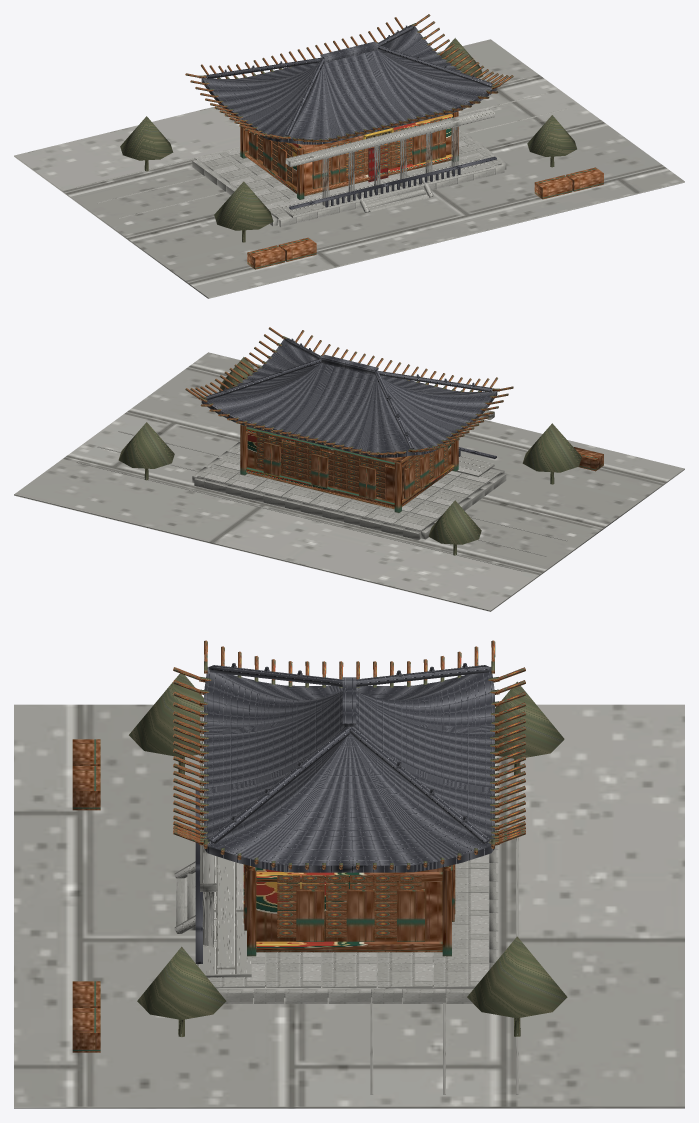
The picture shows the model from 3 angles, top to bottom: view 1: azimuth 30°, elevation 25°; view 2: azimuth 150°, elevation 25°; view 3: azimuth 270°, elevation 25°; orthographic projection. The views are drawn at different scales.
Parts seen in each view (by area): view 1: 11140_02_04519_004_06__garden_paving, 11140_02_04519_004_03__paljak_roof_giwa, 11140_02_04519_004_01__granite_plinth_terrace, 11140_02_04519_004_06__garden_trees_hedge, 11140_02_04519_004_02__brick_body_timber_frame, 11140_02_04519_004_03__roman_colonnade_6columns, 11140_02_04519_004_03__seokkarae_buyeon_eave, 11140_02_04519_004_05__window_wood_sash, 11140_02_04519_004_03__yongmaru_japsang_punggyeong, 11140_02_04519_004_03__terrace_iron_balustrade; view 2: 11140_02_04519_004_06__garden_paving, 11140_02_04519_004_03__paljak_roof_giwa, 11140_02_04519_004_01__granite_plinth_terrace, 11140_02_04519_004_02__brick_body_timber_frame, 11140_02_04519_004_06__garden_trees_hedge, 11140_02_04519_004_03__seokkarae_buyeon_eave, 11140_02_04519_004_05__window_wood_sash, 11140_02_04519_004_03__yongmaru_japsang_punggyeong; view 3: 11140_02_04519_004_06__garden_paving, 11140_02_04519_004_03__paljak_roof_giwa, 11140_02_04519_004_01__granite_plinth_terrace, 11140_02_04519_004_06__garden_trees_hedge, 11140_02_04519_004_02__brick_body_timber_frame, 11140_02_04519_004_03__seokkarae_buyeon_eave, 11140_02_04519_004_03__yongmaru_japsang_punggyeong, 11140_02_04519_004_05__window_wood_sash, 11140_02_04519_004_03__roman_colonnade_6columns, 11140_02_04519_004_03__terrace_iron_balustrade.
Boxes of the visible parts, x1,y1,x2,y2 form: 11140_02_04519_004_06__garden_paving: (14, 39, 684, 298); 11140_02_04519_004_03__paljak_roof_giwa: (201, 26, 497, 144); 11140_02_04519_004_01__granite_plinth_terrace: (192, 128, 506, 227); 11140_02_04519_004_06__garden_trees_hedge: (120, 38, 603, 269); 11140_02_04519_004_02__brick_body_timber_frame: (240, 111, 458, 199); 11140_02_04519_004_03__roman_colonnade_6columns: (285, 109, 494, 205); 11140_02_04519_004_03__seokkarae_buyeon_eave: (185, 14, 513, 142); 11140_02_04519_004_05__window_wood_sash: (248, 128, 445, 188); 11140_02_04519_004_03__yongmaru_japsang_punggyeong: (206, 25, 492, 136); 11140_02_04519_004_03__terrace_iron_balustrade: (289, 156, 496, 209); 11140_02_04519_004_06__garden_paving: (14, 352, 684, 611); 11140_02_04519_004_03__paljak_roof_giwa: (201, 339, 497, 457); 11140_02_04519_004_01__granite_plinth_terrace: (192, 441, 506, 540); 11140_02_04519_004_02__brick_body_timber_frame: (240, 424, 458, 512); 11140_02_04519_004_06__garden_trees_hedge: (118, 357, 603, 555); 11140_02_04519_004_03__seokkarae_buyeon_eave: (185, 327, 513, 455); 11140_02_04519_004_05__window_wood_sash: (263, 441, 443, 499); 11140_02_04519_004_03__yongmaru_japsang_punggyeong: (206, 338, 492, 449); 11140_02_04519_004_06__garden_paving: (14, 704, 684, 1108); 11140_02_04519_004_03__paljak_roof_giwa: (204, 667, 494, 872); 11140_02_04519_004_01__granite_plinth_terrace: (174, 800, 498, 1003); 11140_02_04519_004_06__garden_trees_hedge: (72, 673, 567, 1052); 11140_02_04519_004_02__brick_body_timber_frame: (247, 866, 451, 956); 11140_02_04519_004_03__seokkarae_buyeon_eave: (173, 640, 525, 869); 11140_02_04519_004_03__yongmaru_japsang_punggyeong: (209, 663, 489, 844); 11140_02_04519_004_05__window_wood_sash: (243, 864, 455, 941); 11140_02_04519_004_03__roman_colonnade_6columns: (200, 710, 216, 947); 11140_02_04519_004_03__terrace_iron_balustrade: (195, 790, 202, 963).
Size of the model in its own units: 34 by 8.19 by 24.
7 materials, 7 textured.
